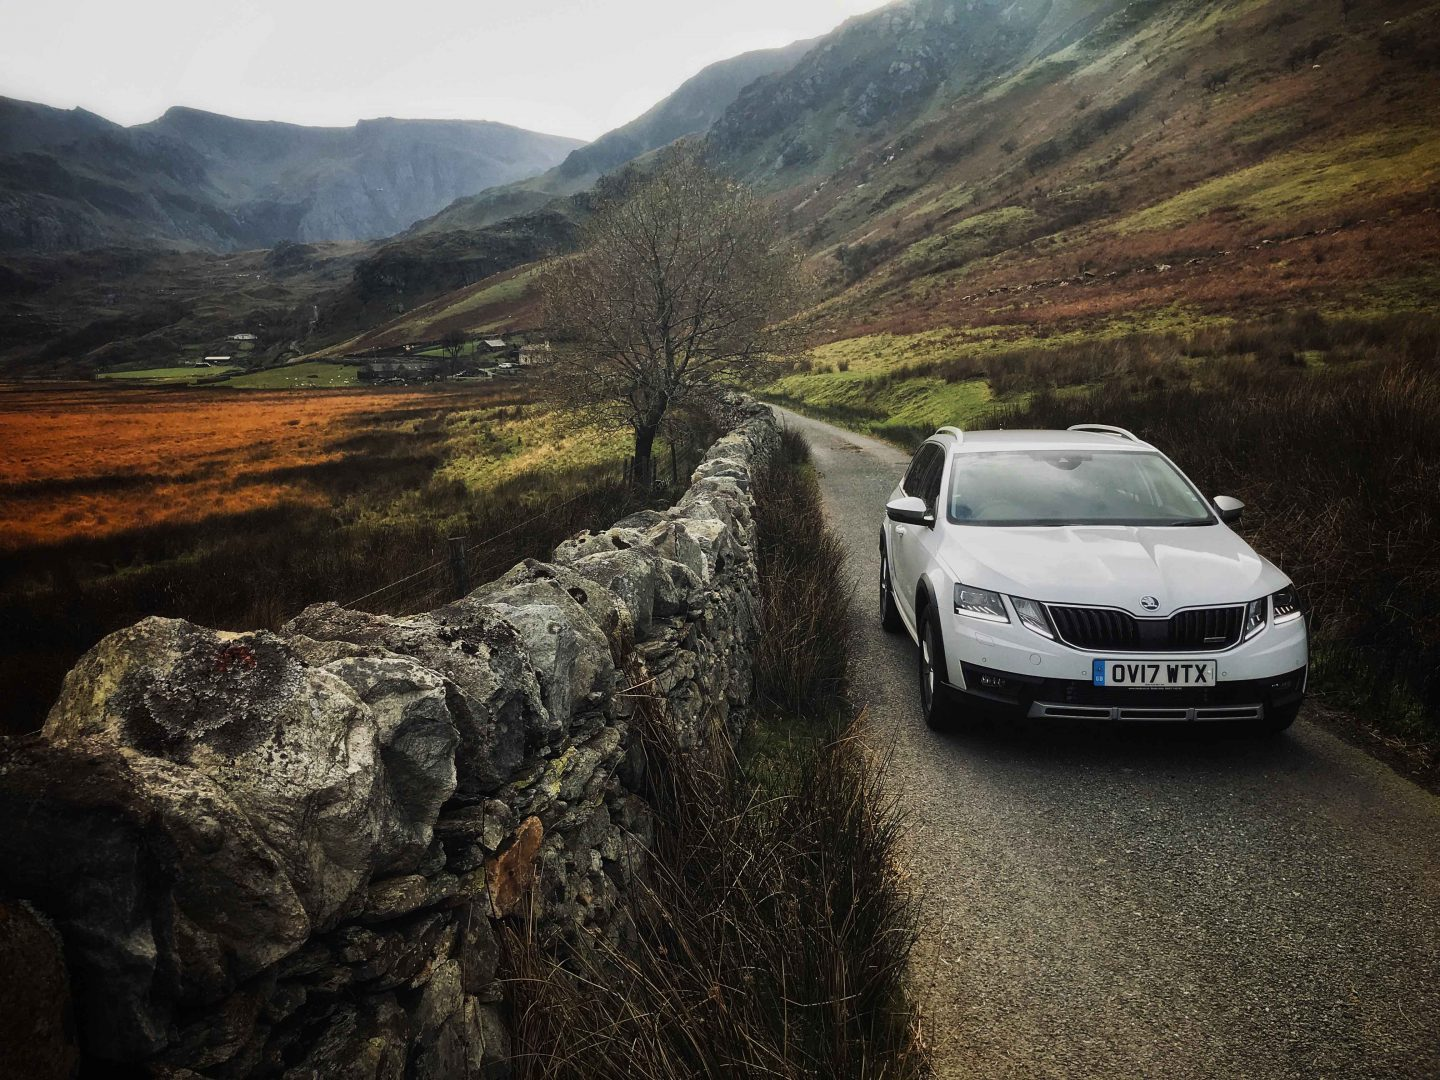license_plate: (1092, 658, 1217, 687)
